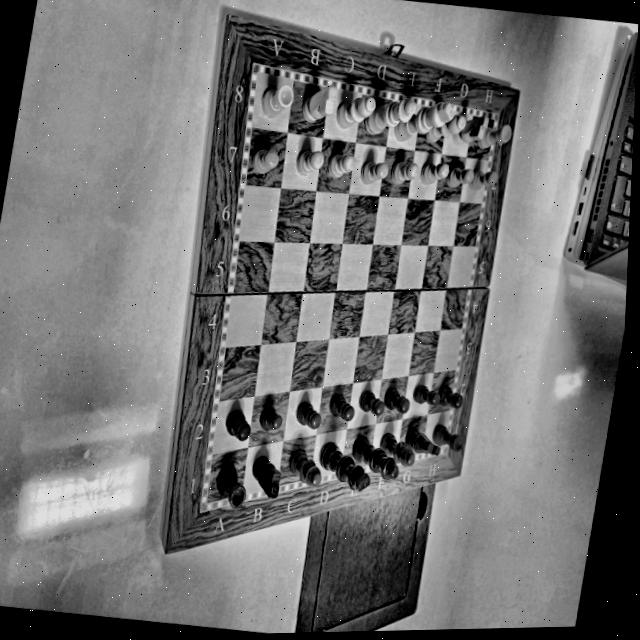black-bishop: (284, 448, 326, 488), (376, 432, 419, 467)
black-king: (314, 439, 374, 499)
black-knight: (247, 451, 286, 500), (402, 428, 445, 460)
black-pawn: (288, 395, 326, 432), (219, 406, 255, 443), (255, 399, 286, 439), (407, 381, 442, 414), (433, 381, 466, 412), (324, 392, 358, 422), (355, 389, 387, 416), (382, 388, 412, 415)
black-queen: (345, 432, 404, 480)
black-rook: (213, 465, 251, 508), (430, 424, 469, 452)
white-bishop: (332, 89, 377, 136), (423, 107, 469, 149)
white-king: (391, 94, 458, 145)
white-knight: (296, 81, 342, 130), (449, 107, 491, 148)
white-pawn: (357, 149, 390, 191), (325, 147, 358, 183), (389, 156, 423, 188), (444, 159, 474, 195), (249, 143, 280, 177), (419, 157, 453, 187), (468, 164, 498, 198), (295, 146, 324, 177)
white-queen: (363, 93, 417, 138)
white-rook: (257, 75, 302, 124), (476, 114, 516, 153)
